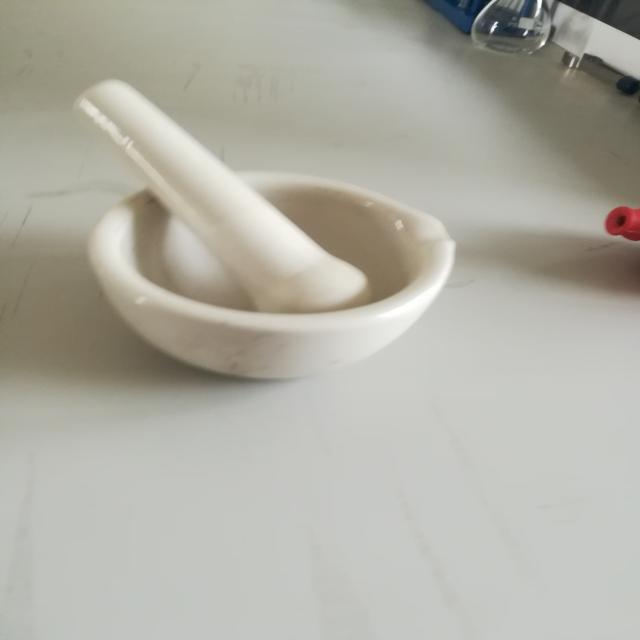Porcelain_Mortar Pestle: (48, 28, 476, 428)
